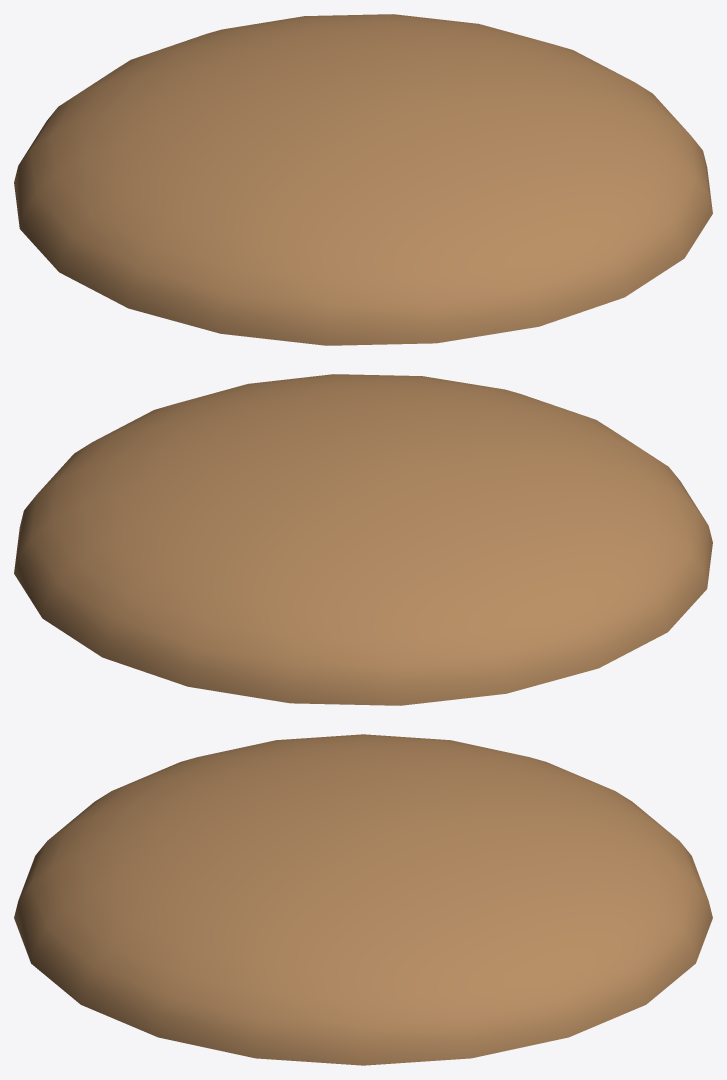
File: Pie_Lid.fbx
3 renders of one model, top to bottom at view 1: azimuth 30°, elevation 25°; view 2: azimuth 150°, elevation 25°; view 3: azimuth 270°, elevation 25°, orthographic.
Parts seen in each view (by area): view 1: Lid_Smooth; view 2: Lid_Smooth; view 3: Lid_Smooth.
Part boxes in pixels (left/top/right/bottom): Lid_Smooth: left=14, top=14, right=712, bottom=345; Lid_Smooth: left=14, top=374, right=712, bottom=705; Lid_Smooth: left=14, top=734, right=712, bottom=1065.
Bounding box in the file's own units: 219 × 37.72 × 219.
